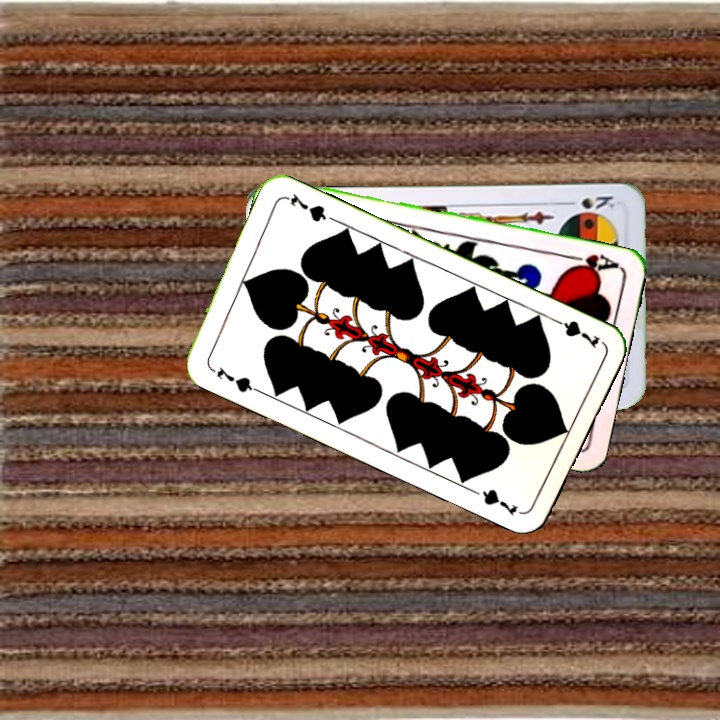G7: (547, 313, 602, 351), (205, 362, 261, 395)
HA: (562, 249, 622, 277)
SK: (560, 192, 617, 216)
